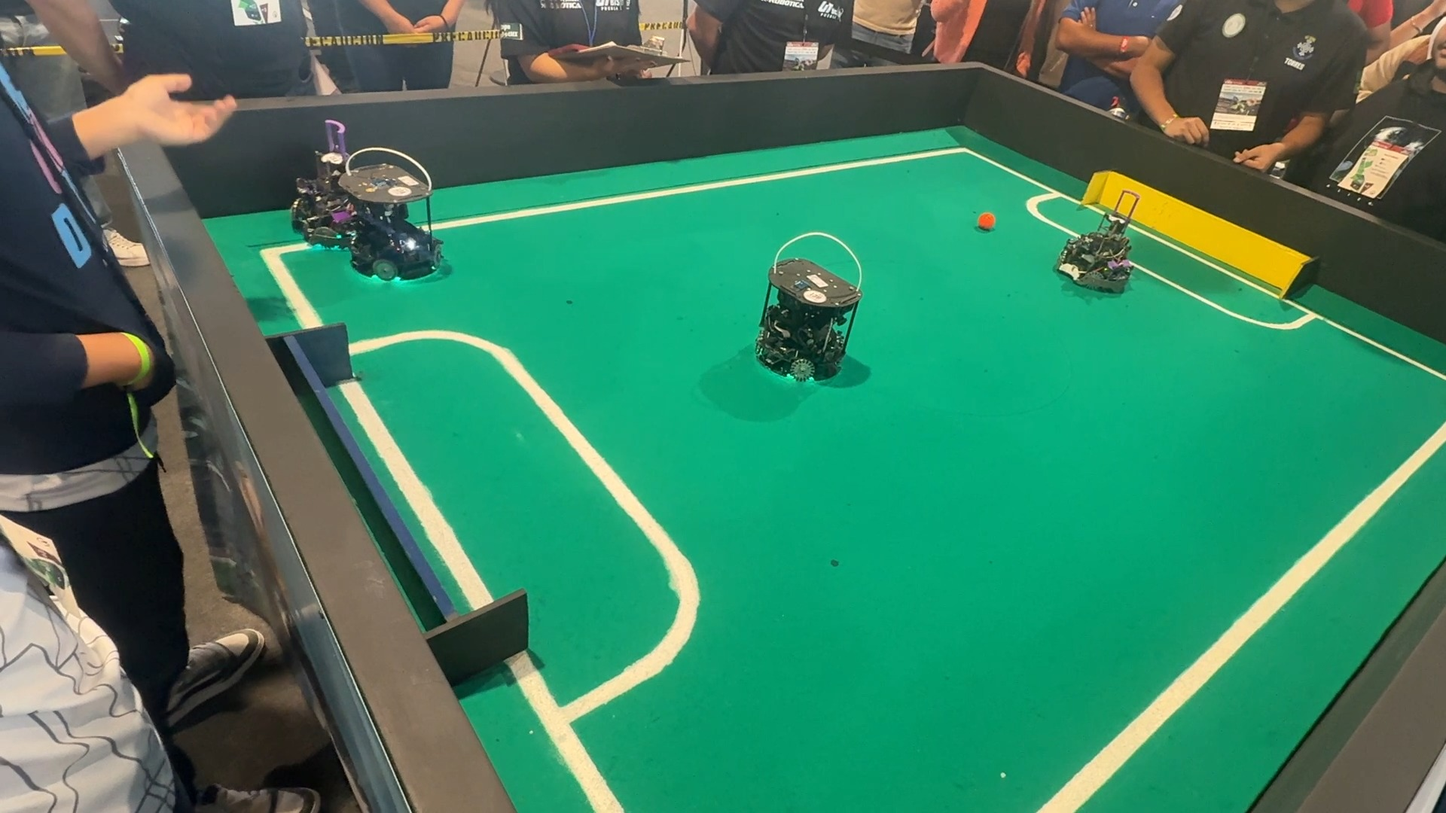Robot: (303, 124, 458, 289), (734, 229, 870, 411), (1043, 176, 1160, 306), (283, 121, 374, 248), (341, 203, 457, 300)
pelota: (969, 208, 1001, 236)
